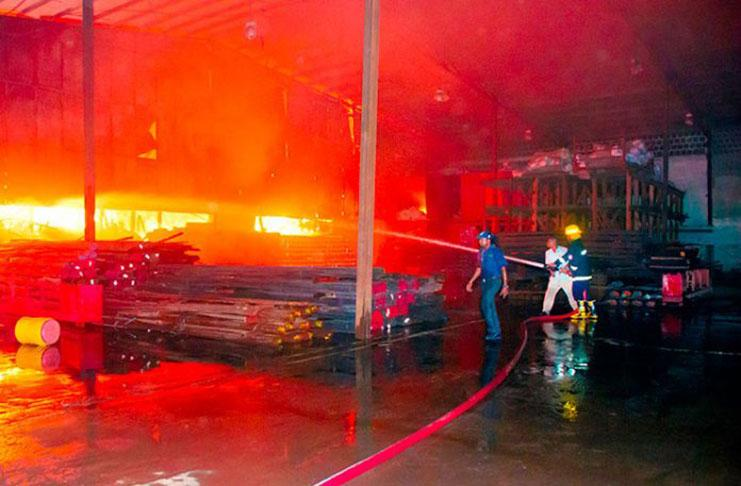Fire: (6, 179, 343, 252)
